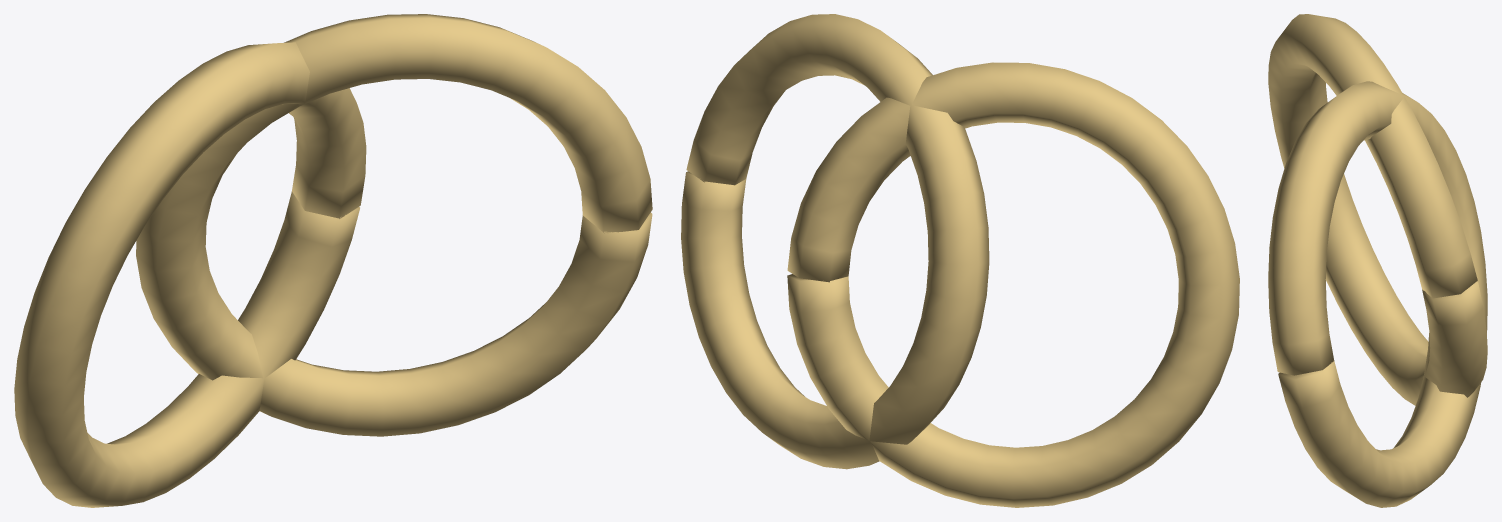
Rendered from wedding-rings.glb.
3 renders of one model, left to right at view 1: azimuth 30°, elevation 25°; view 2: azimuth 150°, elevation 25°; view 3: azimuth 270°, elevation 25°, orthographic. The views are drawn at different scales.
Visible parts, largest first — view 1: ring-right-1, ring-left-0; view 2: ring-left-0, ring-right-1; view 3: ring-right-1, ring-left-0.
Boxes of the visible parts, x1,y1,x2,y2 form: ring-right-1: [136, 14, 652, 436]; ring-left-0: [14, 42, 366, 507]; ring-left-0: [787, 62, 1239, 507]; ring-right-1: [681, 14, 989, 469]; ring-right-1: [1268, 81, 1487, 507]; ring-left-0: [1268, 14, 1487, 405].
Bounding box in the file's own units: 1.53 × 1.08 × 0.5703.
